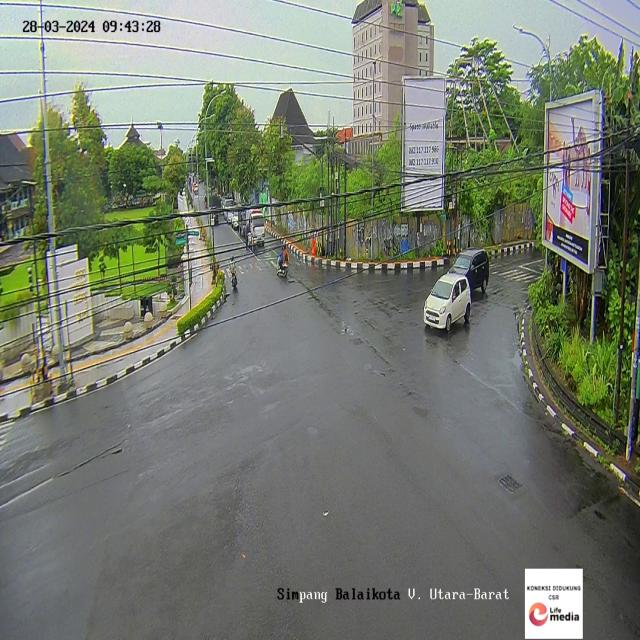car: (424, 272, 472, 332), (448, 251, 489, 297)
motorcycle: (276, 237, 290, 285), (229, 253, 239, 294)
truck: (246, 202, 266, 247)
